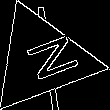N_W: (9, 32, 75, 87)
